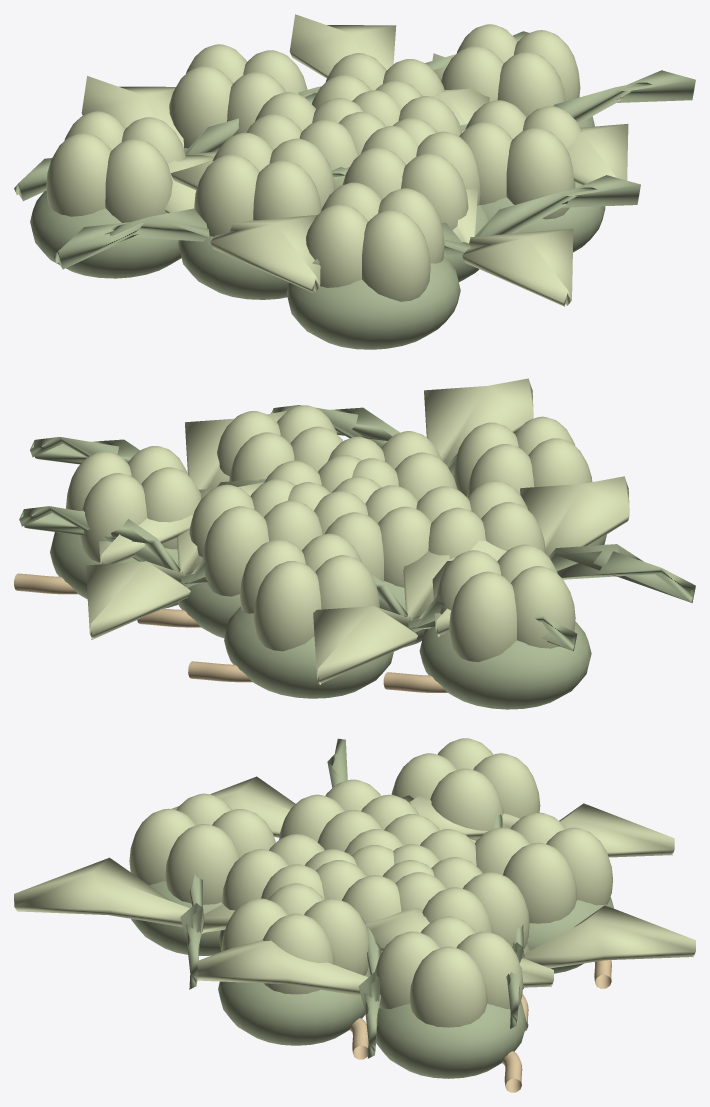
File: bio_oxygen_reef_05_near.glb
The picture shows the model from 3 angles, top to bottom: view 1: azimuth 30°, elevation 25°; view 2: azimuth 150°, elevation 25°; view 3: azimuth 270°, elevation 25°; orthographic projection. The views are drawn at different scales.
Parts seen in each view (by area): view 1: Lobed gas sac.028, Lobed gas sac.036, Lobed gas sac.016, Lobed gas sac.020, Photosynthetic cushion.007, Lobed gas sac.032, Lobed gas sac.024, Lobed gas sac.008, Low buttress leaf.009, Low buttress leaf.017, Photosynthetic cushion.009, Low buttress leaf.013 (+12 smaller); view 2: Lobed gas sac.036, Lobed gas sac.024, Lobed gas sac.032, Lobed gas sac.012, Photosynthetic cushion.009, Lobed gas sac.028, Low buttress leaf.005, Lobed gas sac.004, Lobed gas sac.016, Lobed gas sac.020, Low buttress leaf.013, Low buttress leaf.017 (+16 smaller); view 3: Lobed gas sac.032, Lobed gas sac.028, Lobed gas sac.024, Lobed gas sac.036, Lobed gas sac.020, Photosynthetic cushion.008, Low buttress leaf.013, Low buttress leaf.009, Lobed gas sac.012, Photosynthetic cushion.005, Low buttress leaf.001, Lobed gas sac.016 (+13 smaller).
Boxes of the visible parts, box(x1,y1,x2,y2) form: Lobed gas sac.028: box(306, 182, 444, 301); Lobed gas sac.036: box(46, 111, 186, 222); Lobed gas sac.016: box(194, 132, 335, 236); Lobed gas sac.020: box(459, 100, 582, 219); Photosynthetic cushion.007: box(286, 256, 460, 349); Lobed gas sac.032: box(441, 24, 580, 117); Lobed gas sac.024: box(169, 44, 307, 148); Lobed gas sac.008: box(342, 126, 480, 230); Low buttress leaf.009: box(452, 186, 573, 306); Low buttress leaf.017: box(165, 155, 320, 292); Photosynthetic cushion.009: box(30, 190, 181, 278); Low buttress leaf.013: box(289, 14, 489, 132); Lobed gas sac.036: box(436, 544, 575, 662); Lobed gas sac.024: box(240, 533, 379, 651); Lobed gas sac.032: box(66, 446, 200, 562); Lobed gas sac.012: box(189, 479, 322, 596); Photosynthetic cushion.009: box(419, 621, 591, 709); Lobed gas sac.028: box(453, 416, 592, 497); Low buttress leaf.005: box(313, 540, 506, 684); Lobed gas sac.004: box(314, 485, 431, 587); Lobed gas sac.016: box(416, 480, 545, 558); Lobed gas sac.020: box(217, 405, 342, 481); Low buttress leaf.013: box(85, 482, 263, 639); Low buttress leaf.017: box(432, 476, 629, 636); Lobed gas sac.032: box(375, 916, 523, 1027); Lobed gas sac.028: box(129, 793, 275, 904); Lobed gas sac.024: box(475, 812, 612, 923); Lobed gas sac.036: box(391, 738, 540, 840); Lobed gas sac.020: box(221, 883, 368, 994); Photosynthetic cushion.008: box(376, 1001, 526, 1078); Low buttress leaf.013: box(365, 905, 695, 968); Low buttress leaf.009: box(14, 857, 235, 933); Lobed gas sac.012: box(395, 857, 529, 948); Photosynthetic cushion.005: box(218, 970, 370, 1045); Low buttress leaf.001: box(197, 940, 553, 995); Lobed gas sac.016: box(279, 779, 418, 851).
Size of the model in its own units: 2.22 by 0.45 by 2.09.
